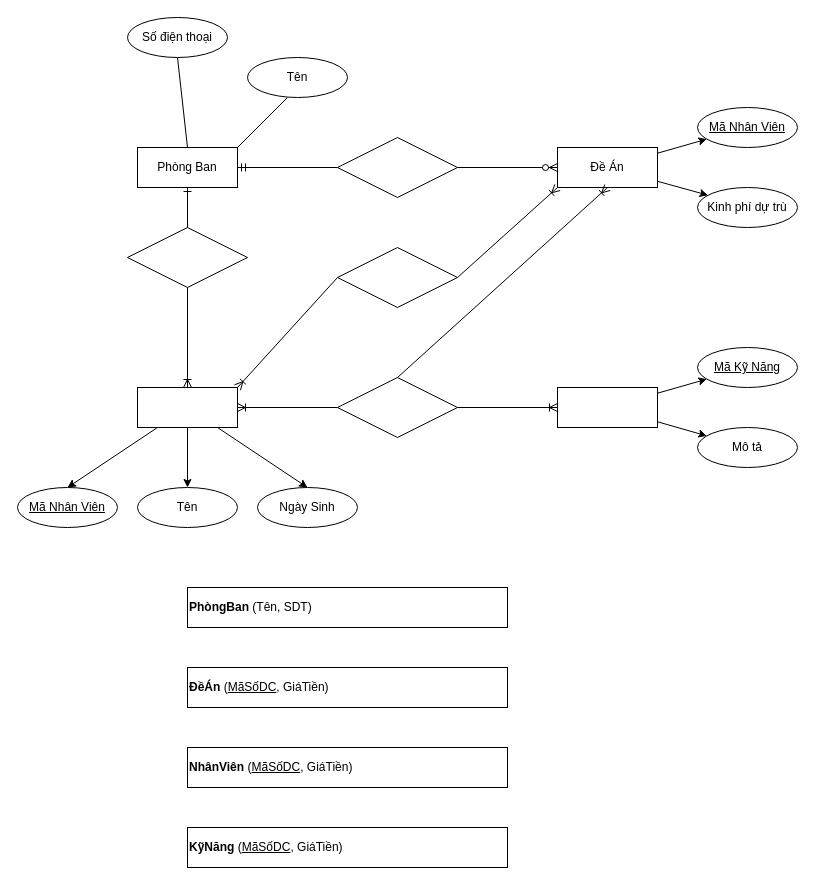
Image size: 815x885. Some labels were removed from this diagram. Here are the shapes that lost their labels. From the top down, the box of each, then its label:
(336, 136, 458, 198): managa
(126, 226, 248, 288): gồm
(336, 246, 458, 308): làm việc
(136, 386, 238, 428): Nhân Viên
(336, 376, 458, 438): có / sử dụng
(556, 386, 658, 428): Kỹ Năng
